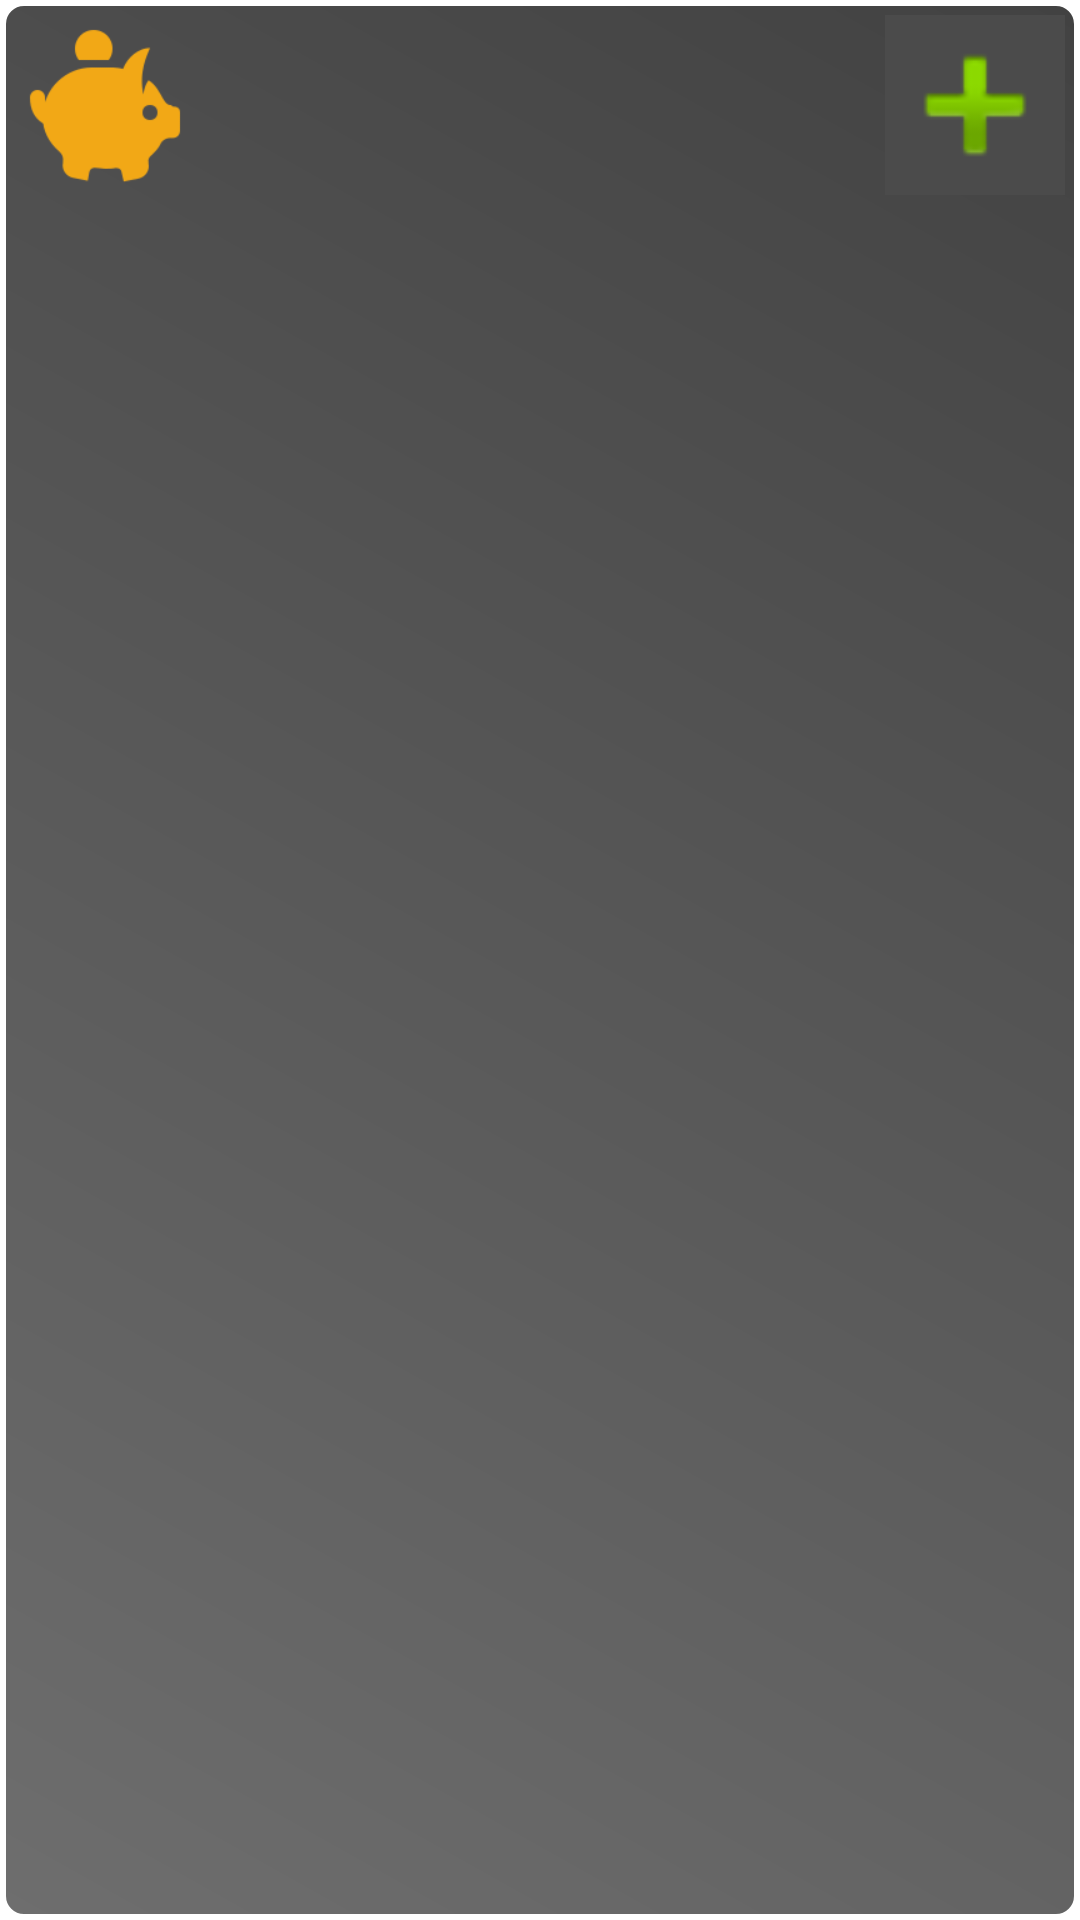

Screen size 1080px×1920px. Icon name, then its center in pixels as [x,y]:
add: [975,105]
